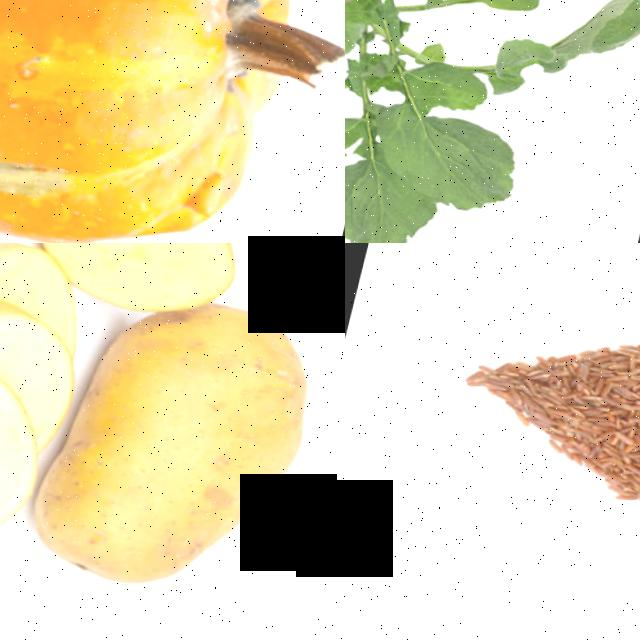potato: (27, 282, 336, 618), (0, 279, 100, 557), (24, 243, 260, 313)
pumpkin: (0, 0, 345, 243)
red rice: (437, 266, 640, 544)
